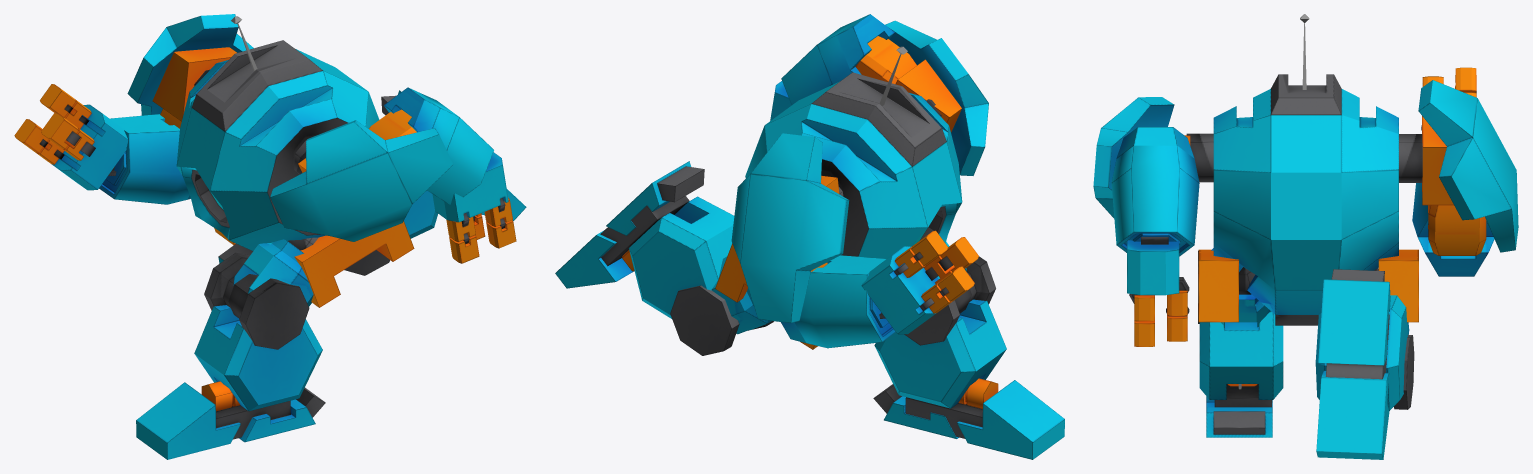
The model's file is Walk17.obj.
3 renders of one model, left to right at view 1: azimuth 30°, elevation 25°; view 2: azimuth 150°, elevation 25°; view 3: azimuth 270°, elevation 25°, orthographic. The views are drawn at different scales.
Visible parts, largest first — view 1: Plane001, Object006, Object013, Object014, Object002, Object004, Object003, Object007, Object008, Object012, Object010; view 2: Plane001, Object002, Object010, Object013, Object014, Object006, Object004, Object003, Object011, Object007, Object009; view 3: Plane001, Object002, Object011, Object007, Object013, Object008, Object006, Object014, Object010, Object003, Object001, Object012 (+2 smaller).
Part boxes in pixels (left/top/right/bottom): Plane001: left=176, top=40, right=414, bottom=307; Object006: left=270, top=109, right=453, bottom=241; Object013: left=194, top=252, right=322, bottom=411; Object014: left=136, top=381, right=325, bottom=459; Object002: left=127, top=14, right=253, bottom=128; Object004: left=14, top=84, right=128, bottom=190; Object003: left=99, top=114, right=190, bottom=204; Object007: left=384, top=87, right=493, bottom=204; Object008: left=432, top=152, right=516, bottom=263; Object012: left=233, top=237, right=318, bottom=306; Object010: left=344, top=190, right=437, bottom=275; Plane001: left=715, top=72, right=962, bottom=349; Object002: left=731, top=133, right=849, bottom=322; Object010: left=628, top=196, right=773, bottom=355; Object013: left=874, top=256, right=1006, bottom=408; Object014: left=873, top=378, right=1064, bottom=459; Object006: left=855, top=20, right=988, bottom=175; Object004: left=861, top=230, right=978, bottom=334; Object003: left=781, top=255, right=895, bottom=348; Object011: left=555, top=161, right=704, bottom=288; Object007: left=781, top=14, right=894, bottom=104; Object009: left=711, top=256, right=771, bottom=334; Plane001: left=1198, top=74, right=1418, bottom=325; Object002: left=1418, top=80, right=1518, bottom=255; Object011: left=1316, top=269, right=1390, bottom=459; Object007: left=1111, top=127, right=1199, bottom=256; Object013: left=1198, top=250, right=1283, bottom=399; Object008: left=1127, top=237, right=1189, bottom=346; Object006: left=1093, top=97, right=1190, bottom=218; Object014: left=1206, top=384, right=1272, bottom=437; Object010: left=1315, top=295, right=1414, bottom=410; Object003: left=1412, top=183, right=1494, bottom=276; Object001: left=1399, top=134, right=1422, bottom=182; Object012: left=1211, top=248, right=1270, bottom=327.
Size of the model in its own units: 233 by 192 by 182.
